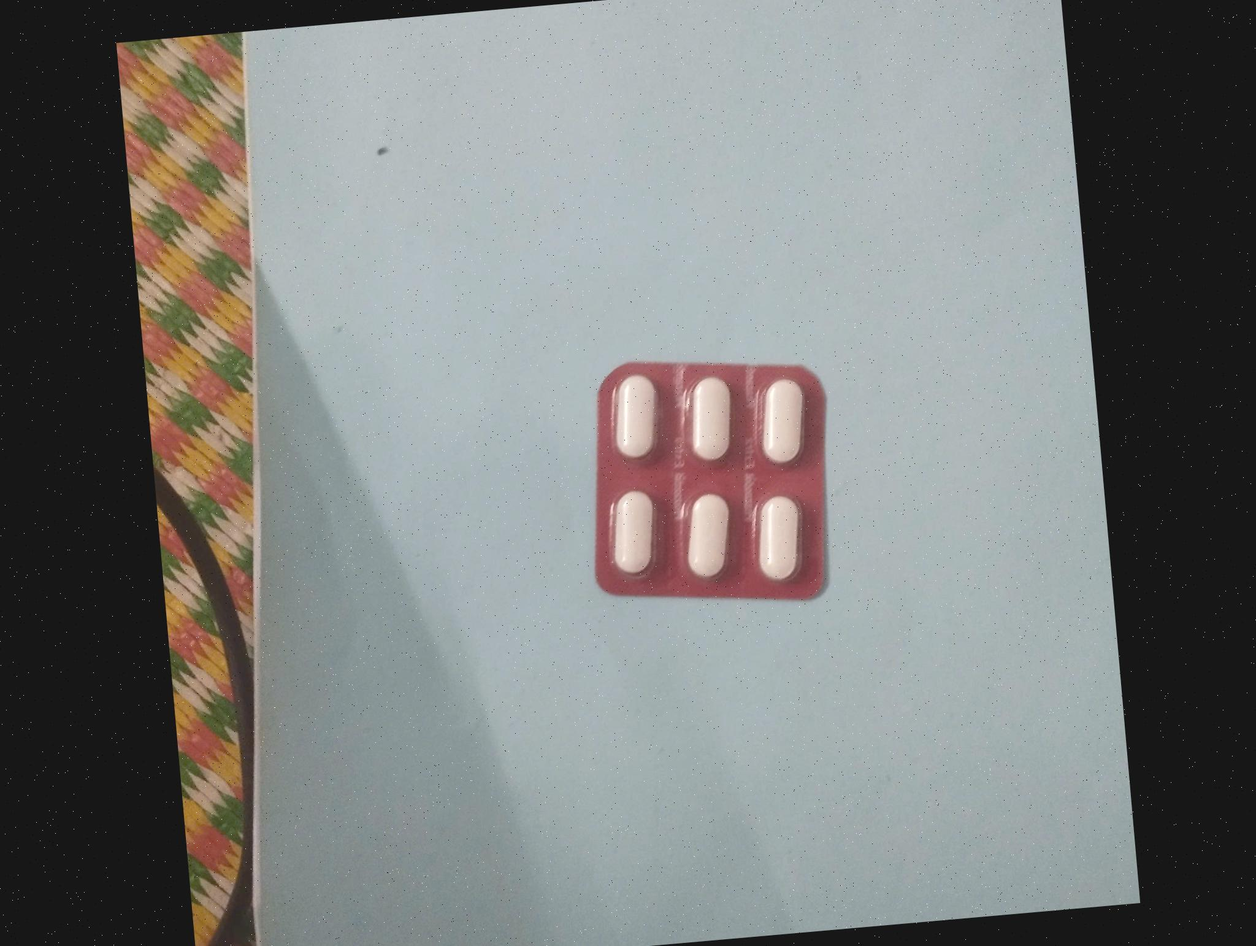Full: (683, 366, 738, 475), (682, 486, 739, 590), (753, 488, 810, 588), (755, 377, 813, 472), (608, 486, 661, 586), (610, 376, 660, 467)
